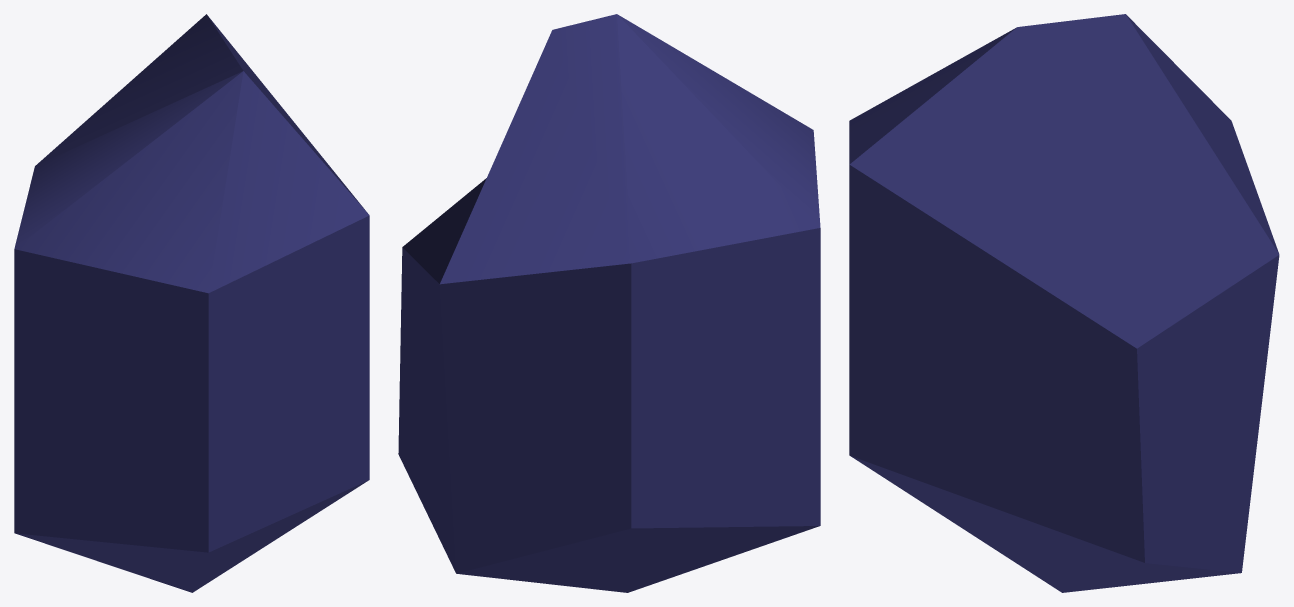
The model's file is stigma.obj.
3 renders of one model, left to right at view 1: azimuth 30°, elevation 25°; view 2: azimuth 150°, elevation 25°; view 3: azimuth 270°, elevation 25°, orthographic. The views are drawn at different scales.
Visible parts, largest first — view 1: 000_Buffer_Layer; view 2: 000_Buffer_Layer; view 3: 000_Buffer_Layer.
Part boxes in pixels (x1,y1,x2,y2): 000_Buffer_Layer: (14,14,369,592); 000_Buffer_Layer: (398,14,820,592); 000_Buffer_Layer: (849,14,1279,592).
Size of the model in its own units: 72.08 by 104 by 67.44.
